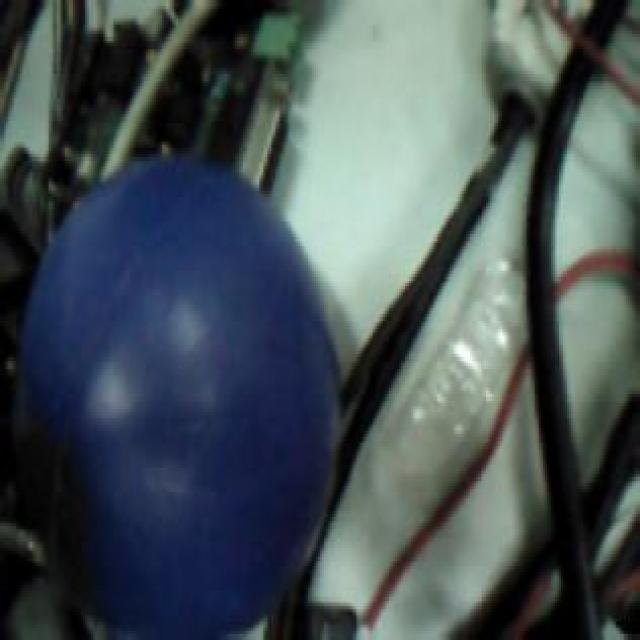BallPurple: (21, 150, 336, 640)
